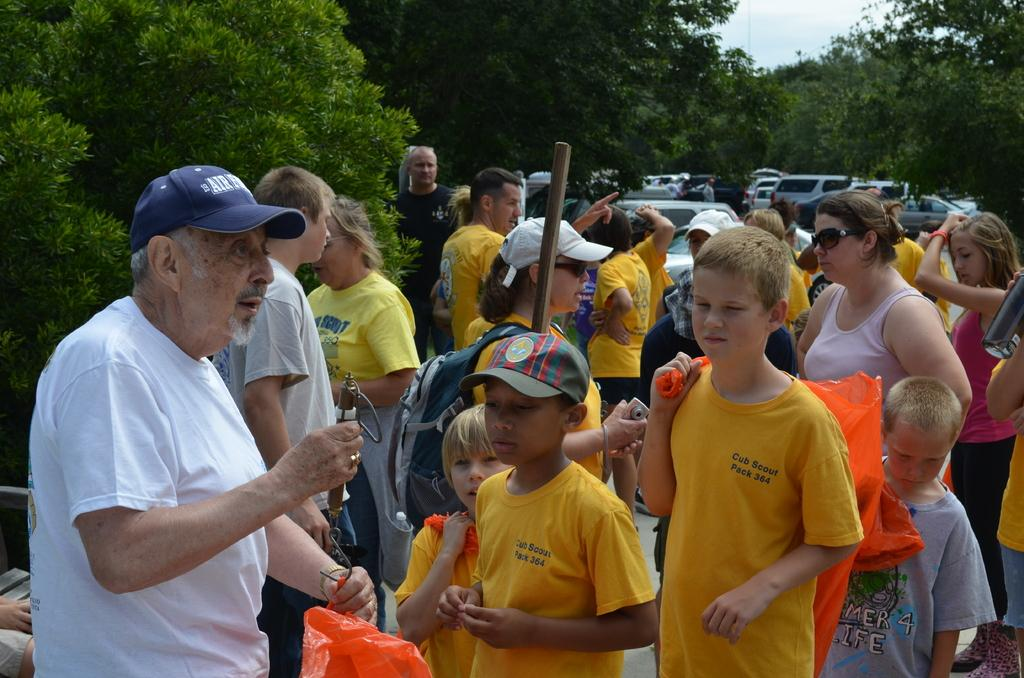Hat: (130, 164, 304, 252), (458, 330, 592, 406), (500, 216, 614, 272), (685, 205, 732, 236)
